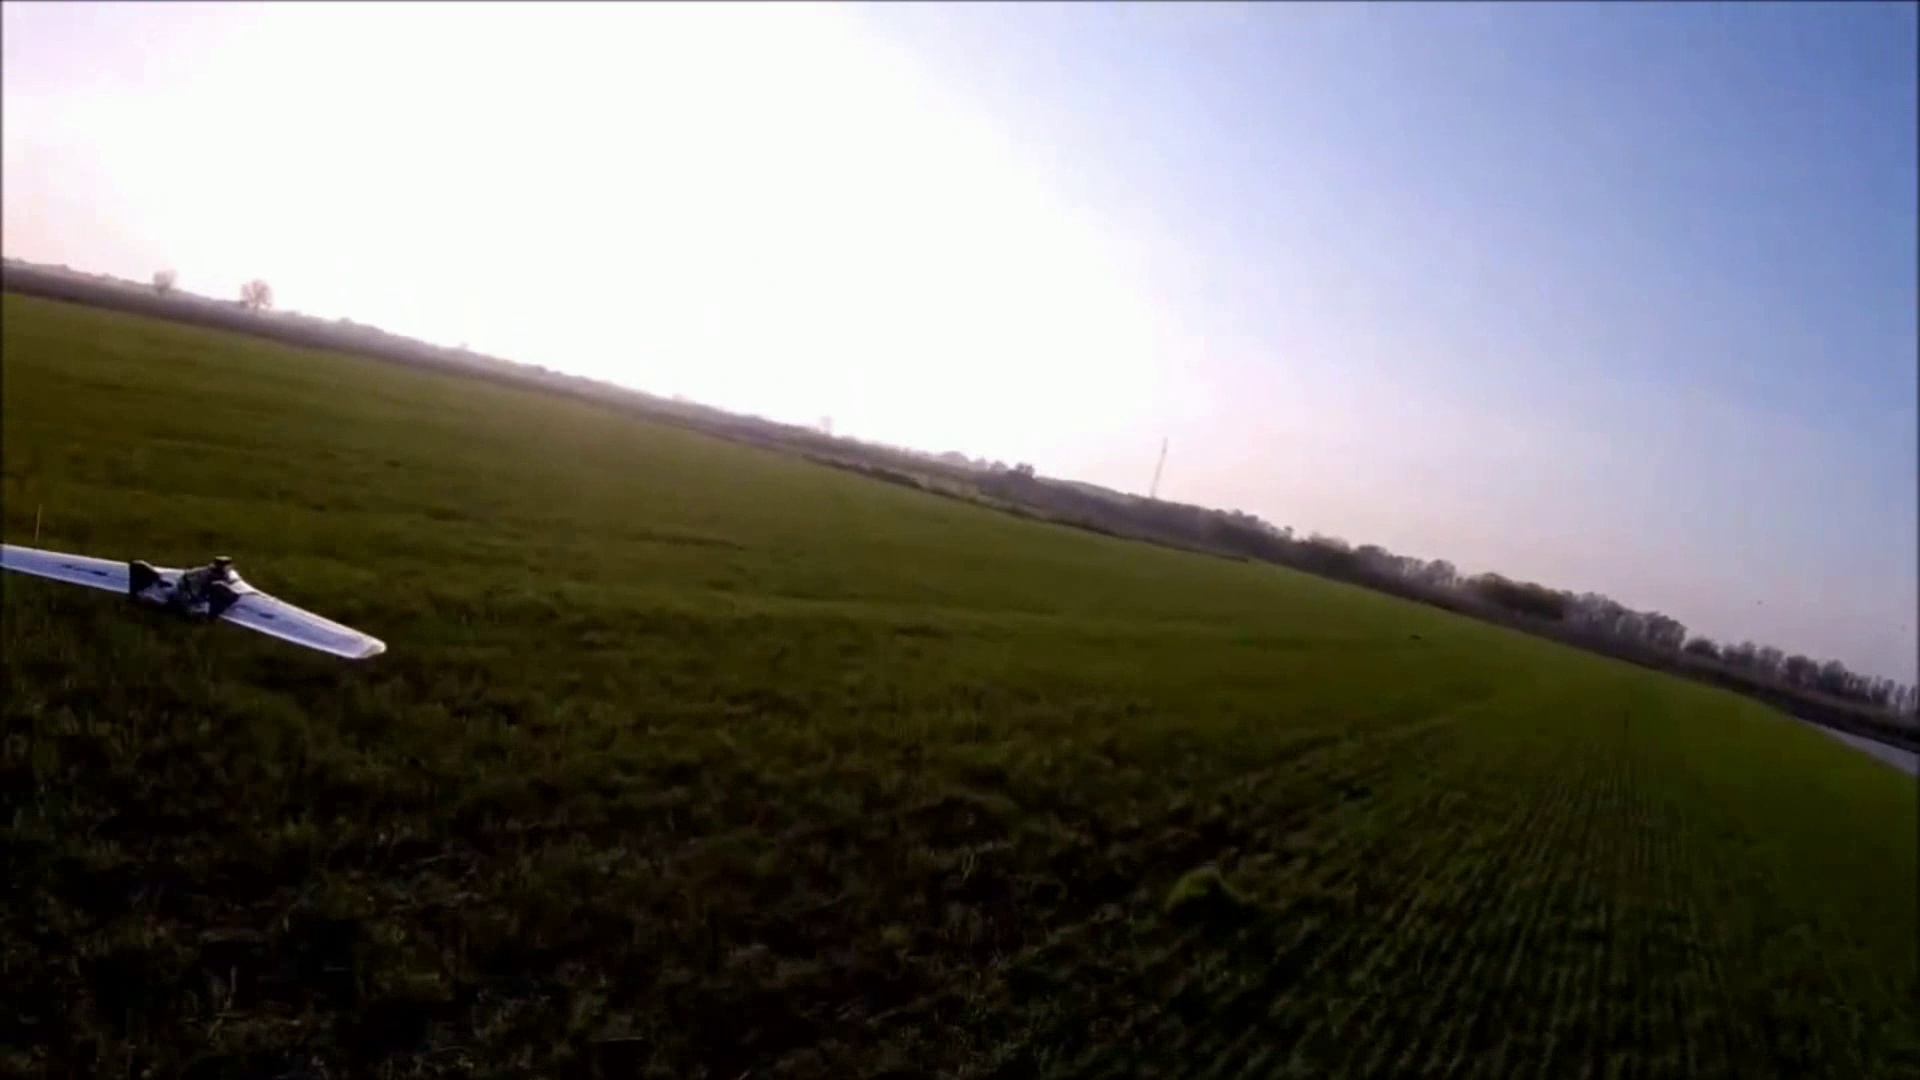airplane: (1, 545, 385, 665)
